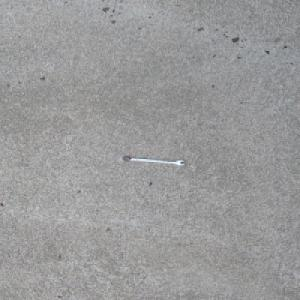Wrench: (119, 155, 186, 166)
